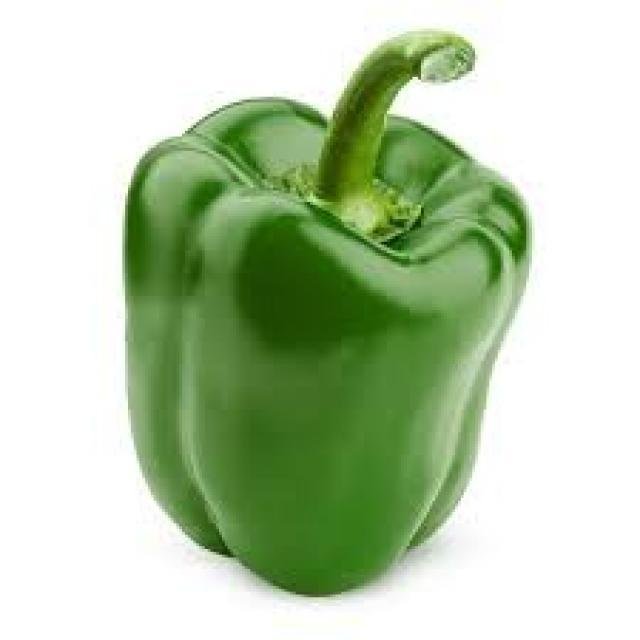Pepper: (121, 31, 533, 600)
